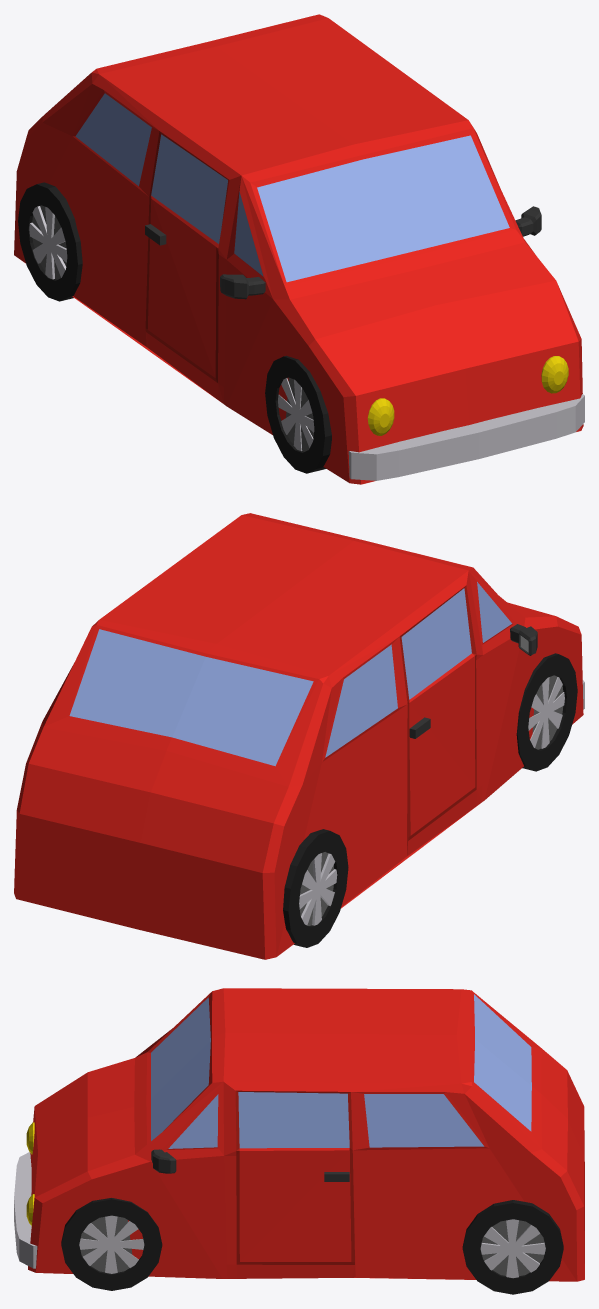
The model's file is auto.glb.
3 renders of one model, top to bottom at view 1: azimuth 30°, elevation 25°; view 2: azimuth 150°, elevation 25°; view 3: azimuth 270°, elevation 25°, orthographic. The views are drawn at different scales.
Visible parts, largest first — view 1: Cube, Cube.004, Cylinder, Cylinder.001, Cube.003, Cylinder.002, Cube.001, Cube.005; view 2: Cube, Cylinder.001, Cylinder, Cube.003, Cube.005, Cube.001; view 3: Cube, Cylinder.001, Cylinder, Cube.003, Cube.005, Cube.004, Cube.001, Cylinder.002.
Boxes of the visible parts, x1,y1,x2,y2 form: Cube: (14,14,583,484); Cube.004: (348,394,584,480); Cylinder: (265,355,331,473); Cylinder.001: (18,182,82,301); Cube.003: (29,206,67,279); Cylinder.002: (367,356,568,435); Cube.001: (220,206,541,299); Cube.005: (278,378,314,451); Cube: (14,513,583,959); Cylinder.001: (283,829,348,947); Cylinder: (516,653,577,771); Cube.003: (299,853,337,925); Cube.005: (528,677,564,748); Cube.001: (510,624,537,655); Cube: (28,988,584,1281); Cylinder.001: (462,1200,563,1294); Cylinder: (61,1198,162,1290); Cube.003: (480,1219,545,1278); Cube.005: (79,1215,144,1273); Cube.004: (14,1152,37,1268); Cube.001: (151,1149,176,1173); Cylinder.002: (26,1122,34,1225).
Size of the model in its own units: 2.6 by 1.96 by 4.92.
